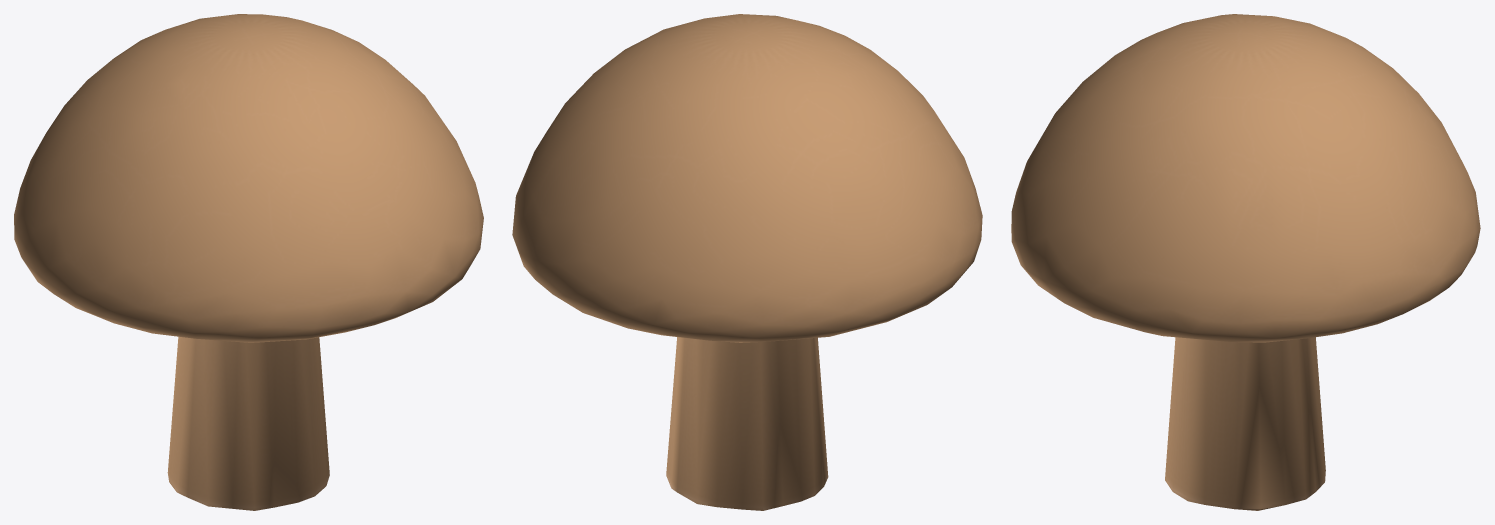
File: mushroom_LOD0.fbx
3 views of the same model, side by side, from view 1: azimuth 30°, elevation 25°; view 2: azimuth 150°, elevation 25°; view 3: azimuth 270°, elevation 25° (orthographic).
Visible parts, largest first — view 1: mushroom_LOD0; view 2: mushroom_LOD0; view 3: mushroom_LOD0.
Boxes of the visible parts, x1,y1,x2,y2 form: mushroom_LOD0: [14, 14, 483, 510]; mushroom_LOD0: [512, 14, 982, 510]; mushroom_LOD0: [1011, 14, 1480, 510].
Bounding box in the file's own units: 25.15 × 26.23 × 25.13.
